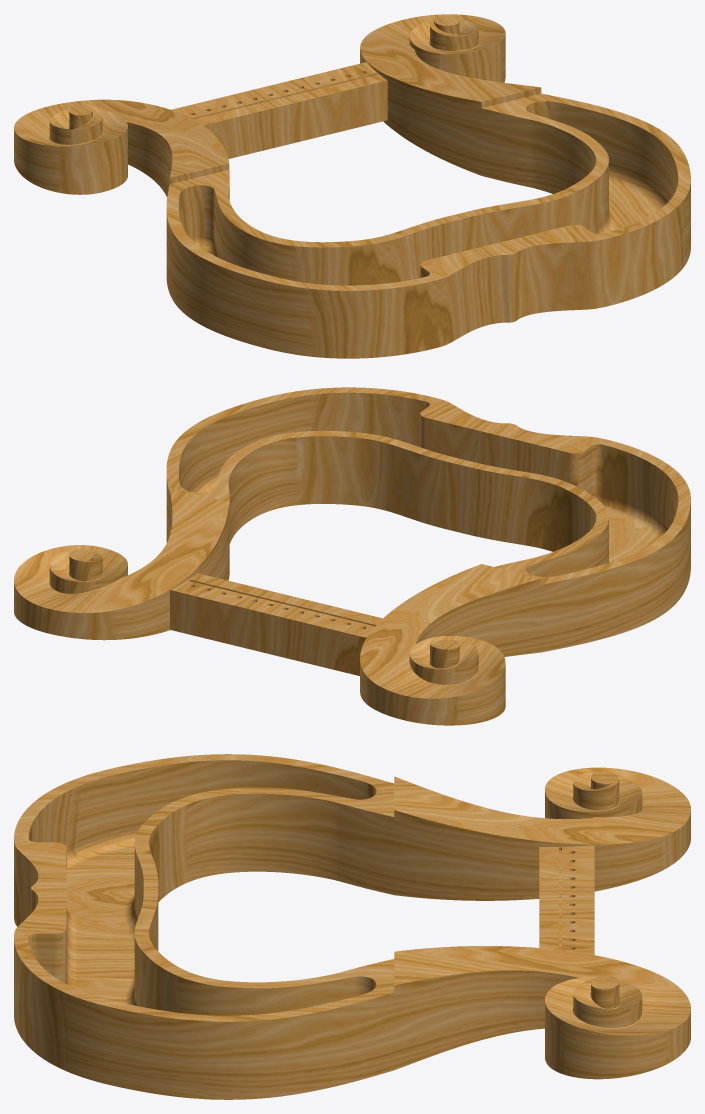
File: Violin-v1.glb
3 renders of one model, top to bottom at view 1: azimuth 30°, elevation 25°; view 2: azimuth 150°, elevation 25°; view 3: azimuth 270°, elevation 25°, orthographic. The views are drawn at different scales.
Parts seen in each view (by area): view 1: Violin-v2_2026-06-04; view 2: Violin-v2_2026-06-04; view 3: Violin-v2_2026-06-04.
Part boxes in pixels (x1,y1,x2,y2): Violin-v2_2026-06-04: (14,14,690,358); Violin-v2_2026-06-04: (14,387,690,725); Violin-v2_2026-06-04: (14,754,690,1099).
Size of the model in its own units: 0.4 by 0.0599 by 0.4275.
1 material, 1 textured.
